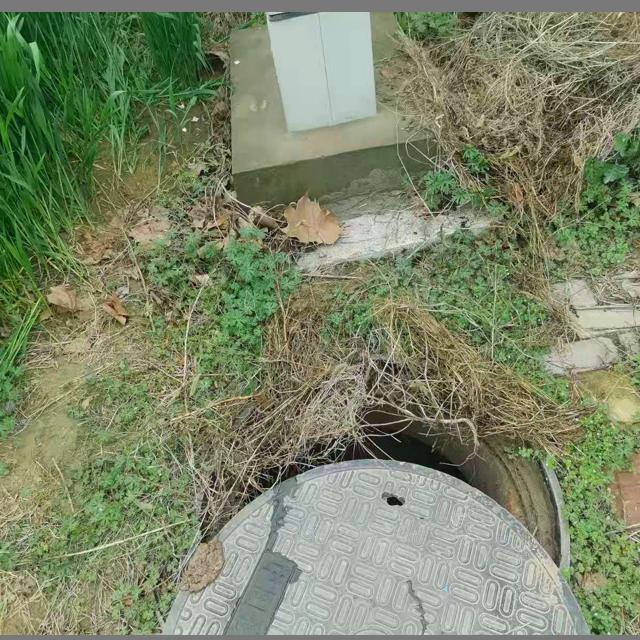uncovered: (160, 396, 588, 635)
